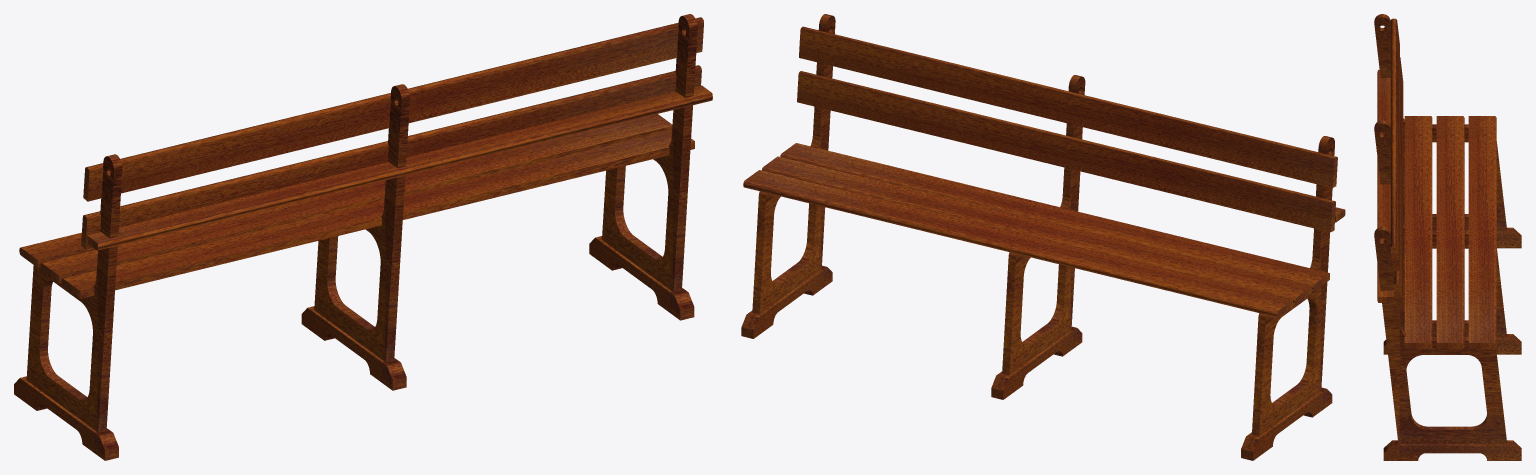
3 views of the same model, side by side, from view 1: azimuth 30°, elevation 25°; view 2: azimuth 150°, elevation 25°; view 3: azimuth 270°, elevation 25° (orthographic). The views are drawn at different scales.
Parts seen in each view (by area): view 1: mesh1_mesh1-geometry, mesh2_mesh2-geometry, mesh3_mesh3-geometry, mesh4_mesh4-geometry; view 2: mesh1_mesh1-geometry, mesh2_mesh2-geometry, mesh4_mesh4-geometry, mesh3_mesh3-geometry; view 3: mesh1_mesh1-geometry, mesh3_mesh3-geometry, mesh4_mesh4-geometry, mesh2_mesh2-geometry.
Boxes of the visible parts, x1,y1,x2,y2 form: mesh1_mesh1-geometry: (19,17,712,298); mesh2_mesh2-geometry: (14,154,122,460); mesh3_mesh3-geometry: (589,14,697,320); mesh4_mesh4-geometry: (301,84,409,390); mesh1_mesh1-geometry: (743,26,1345,317); mesh2_mesh2-geometry: (1241,136,1334,460); mesh4_mesh4-geometry: (991,75,1085,399); mesh3_mesh3-geometry: (741,14,835,338); mesh1_mesh1-geometry: (1377,18,1496,348); mesh3_mesh3-geometry: (1374,226,1521,460); mesh4_mesh4-geometry: (1374,120,1521,354); mesh2_mesh2-geometry: (1374,14,1521,248).
Size of the model in its own units: 0.8778 by 0.4145 by 0.2403.
